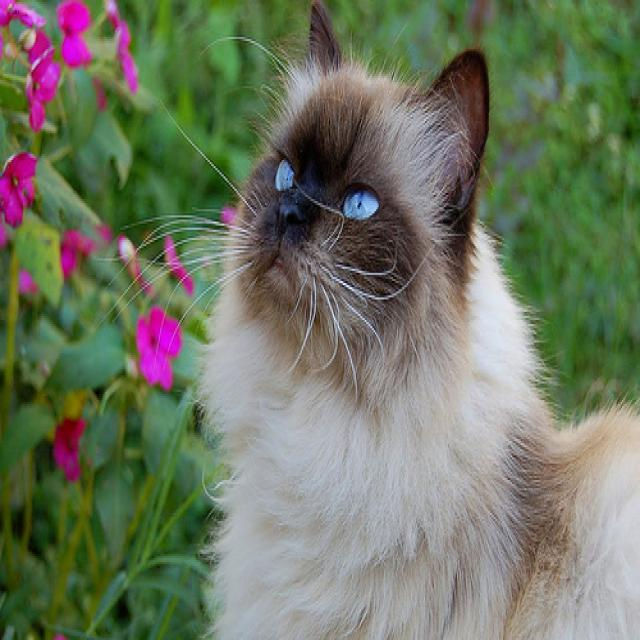Birman: (214, 1, 509, 408)
